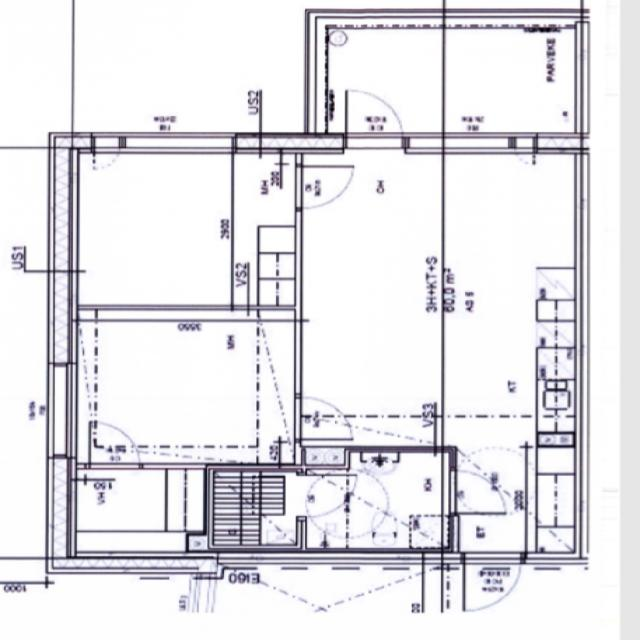door: (343, 83, 402, 153), (464, 552, 520, 620), (295, 165, 354, 208), (451, 470, 509, 512), (296, 476, 356, 516), (88, 422, 140, 468), (296, 398, 352, 439)
